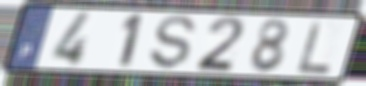1: (116, 12, 147, 70)
2: (195, 15, 248, 74)
4: (47, 9, 93, 70)
8: (249, 17, 294, 75)
L: (296, 18, 334, 76)
S: (148, 14, 199, 71)
